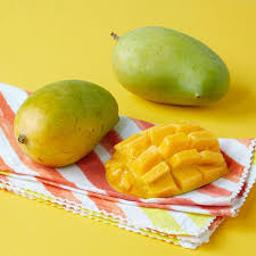Mango Fresh: (95, 18, 235, 122), (15, 71, 123, 165)
